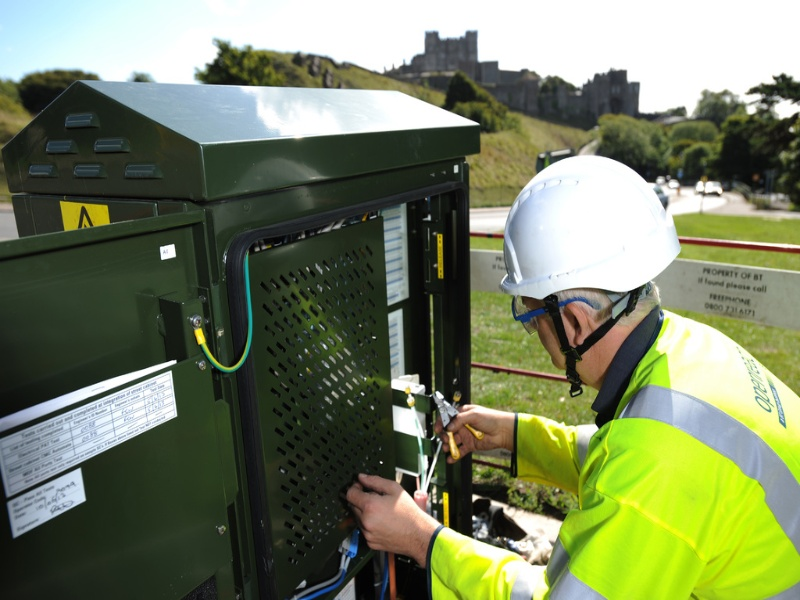Baret: (501, 155, 683, 297)
